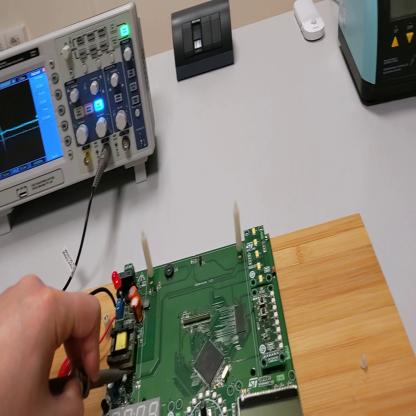hand: (2, 274, 102, 415)
low voltage board: (92, 201, 305, 416)
oscilloscope: (3, 3, 155, 234)
oscilloscope probe tip: (51, 367, 137, 400)
welder station: (340, 2, 416, 109)
working area: (50, 215, 415, 413)
